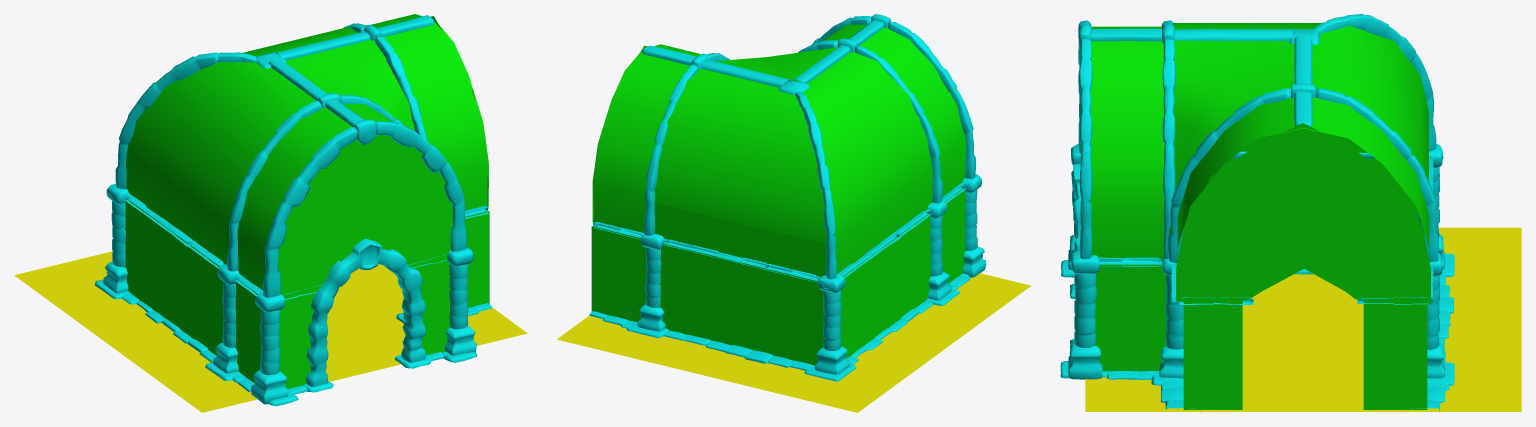
Rendered from Hallway_Corner_3.fbx.
The picture shows the model from 3 angles, left to right: view 1: azimuth 30°, elevation 25°; view 2: azimuth 150°, elevation 25°; view 3: azimuth 270°, elevation 25°; orthographic projection. The views are drawn at different scales.
Visible parts, largest first — view 1: Room_Corner_3:Corner2Walls, Room_Corner_3:Corner2Frame, Room_Corner_3:FloorCorner2; view 2: Room_Corner_3:Corner2Walls, Room_Corner_3:Corner2Frame, Room_Corner_3:FloorCorner2; view 3: Room_Corner_3:Corner2Walls, Room_Corner_3:FloorCorner2, Room_Corner_3:Corner2Frame.
Boxes of the visible parts, x1,y1,x2,y2 form: Room_Corner_3:Corner2Walls: (125,14,489,388); Room_Corner_3:Corner2Frame: (94,15,491,406); Room_Corner_3:FloorCorner2: (14,251,527,412); Room_Corner_3:Corner2Walls: (591,24,965,365); Room_Corner_3:Corner2Frame: (589,14,986,381); Room_Corner_3:FloorCorner2: (557,273,1030,412); Room_Corner_3:Corner2Walls: (1090,23,1430,409); Room_Corner_3:FloorCorner2: (1085,227,1521,411); Room_Corner_3:Corner2Frame: (1060,14,1454,412).
Size of the model in its own units: 1205 by 895 by 1269.
